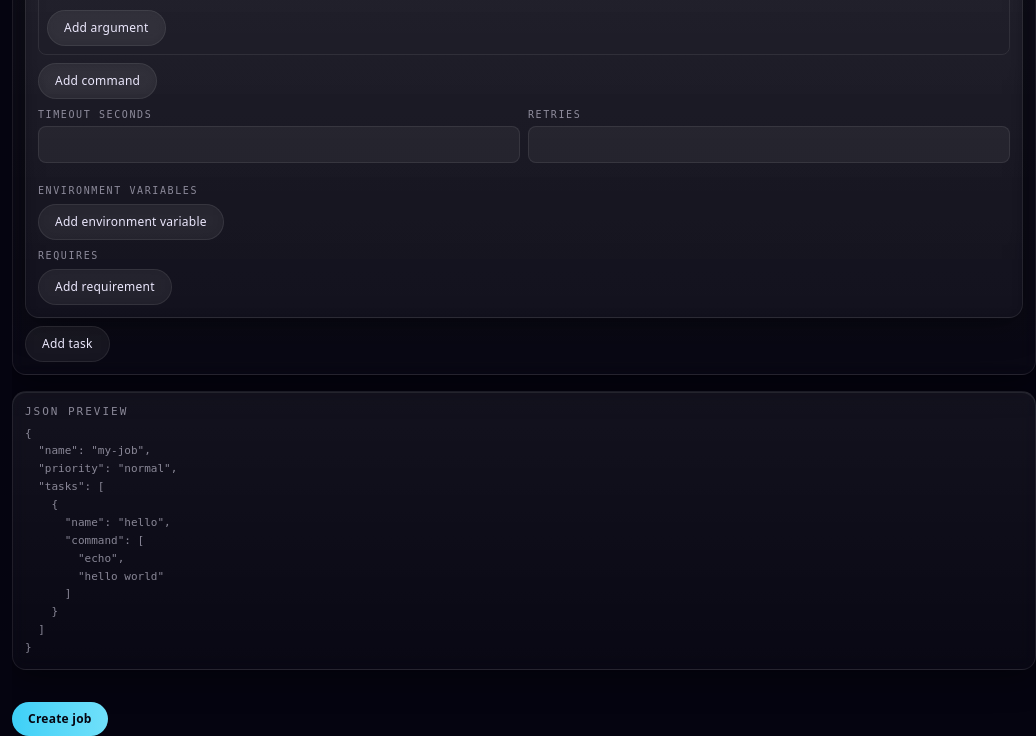
Test: a 400 body no jobspec rule produces is rendered verbatim and marks no control invalid
This screenshot has width=1036, height=736.
(page scrolled)
Click the button "Create job": (60, 719) [12,702,108,735]
(page scrolled)
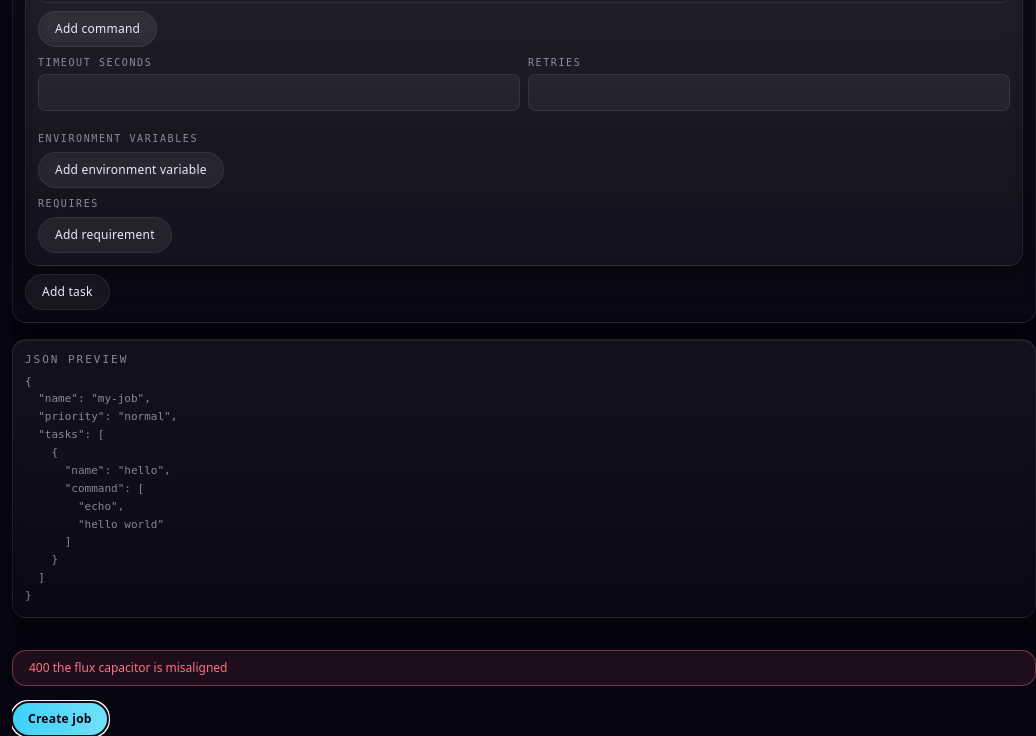
Result: the message shows "the flux capacitor is misaligned" at [29,659,228,676]
Result: the number of messages is 1 at [12,650,1035,686]
